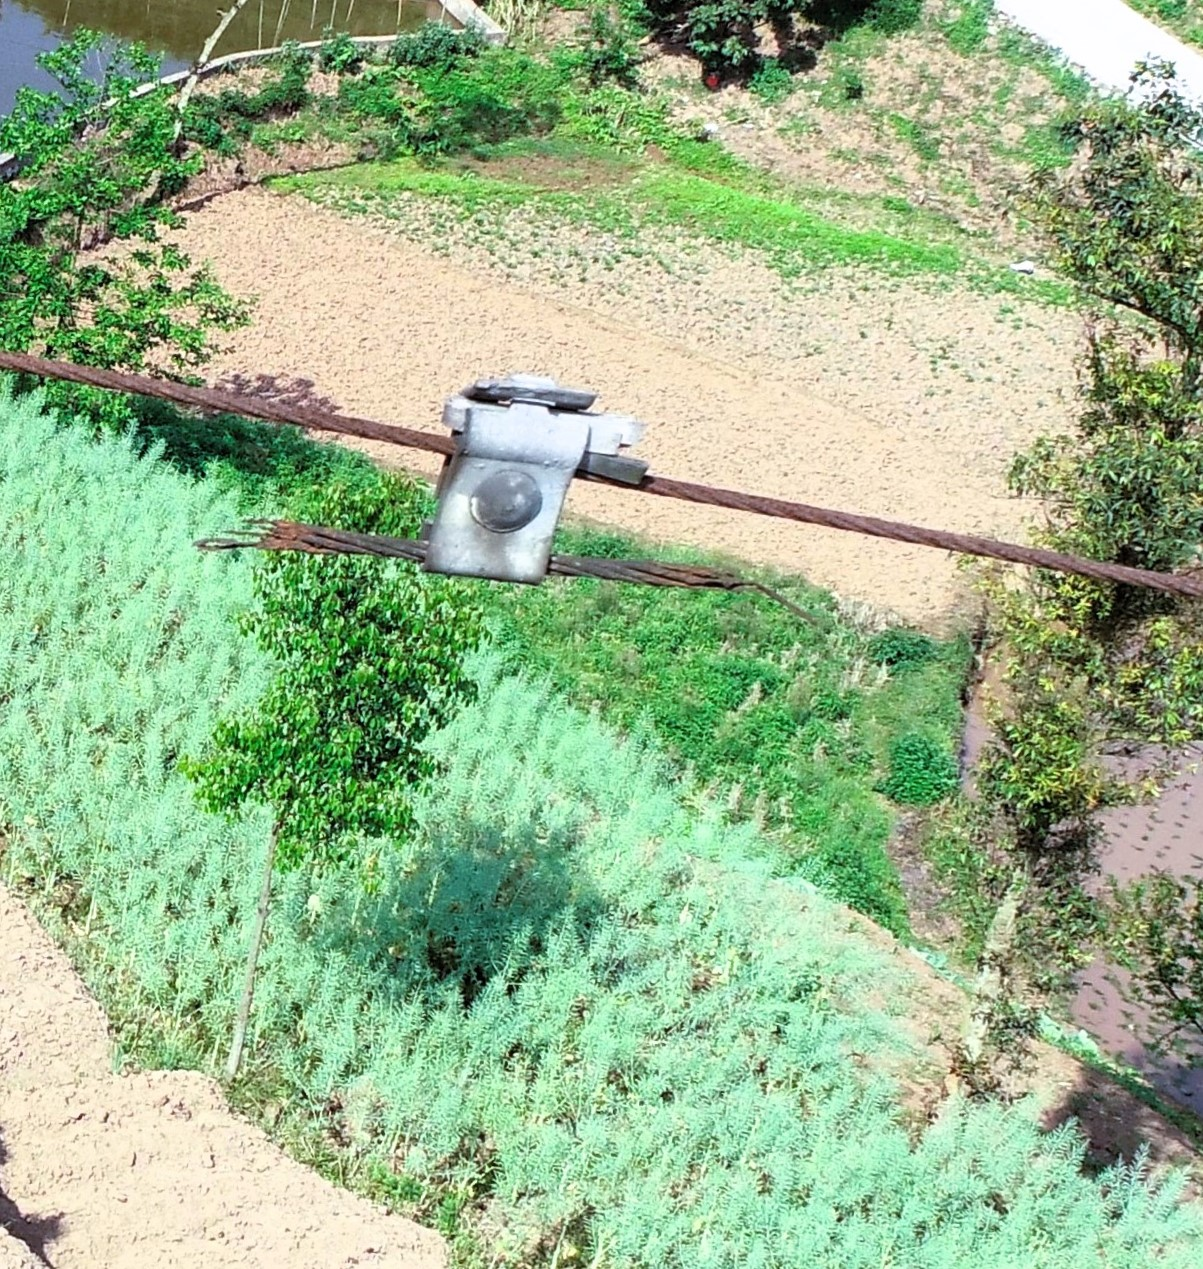Damage of shockproof hammer: (202, 362, 799, 616)
